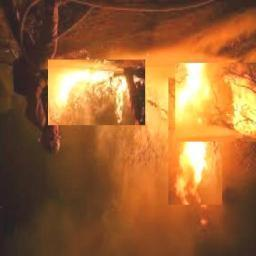Large fire: (49, 56, 248, 218)
